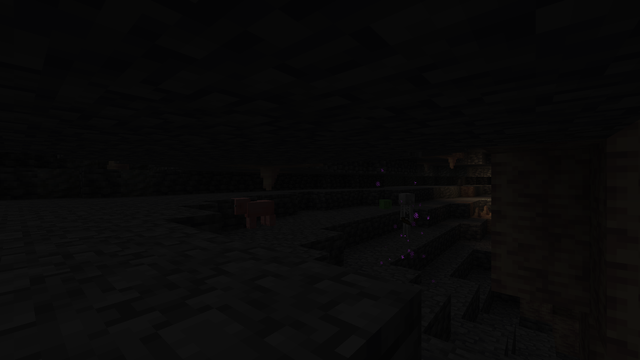cochons: (246, 199, 275, 229)
slimes: (379, 198, 391, 208)
squelettes: (397, 193, 415, 239)
